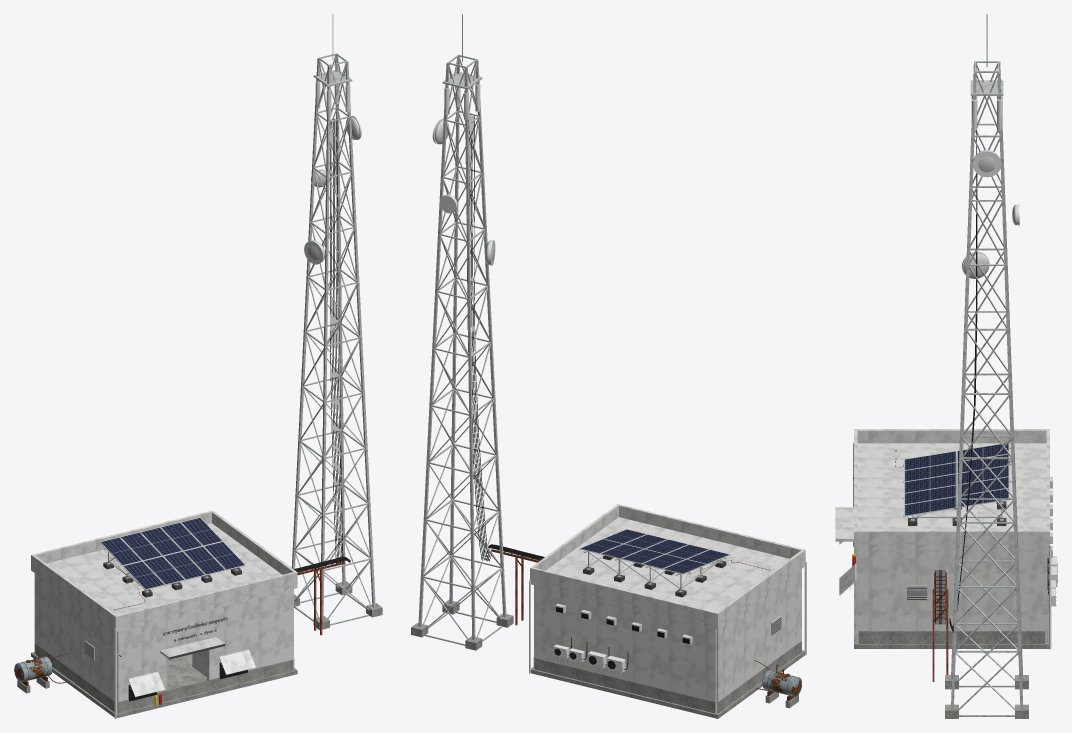
Rendered from SolarRooftop_G6_Site_Assembled.fbx.
3 views of the same model, side by side, from view 1: azimuth 30°, elevation 25°; view 2: azimuth 150°, elevation 25°; view 3: azimuth 270°, elevation 25° (orthographic). The views are drawn at different scales.
Parts seen in each view (by area): view 1: Roof_Slab, Side_Wall, Front_Wall_R, Parapet, Floor_Slab, Leg.001, Leg, Front_Wall_L, Dirt_Front, Leg.003, Leg.002, Parapet.001 (+17 smaller); view 2: Back_Wall, Roof_Slab, Side_Wall, Parapet.001, Parapet, Leg.003, Dirt_Back, Leg.002, Leg, Leg.001, Floor_Slab, Parapet.002 (+2 smaller); view 3: Side_Wall.001, Roof_Slab, Parapet.003, Parapet.002, Dirt_R, Leg.001, Leg.002, Floor_Slab, Leg.003, Leg, PV_R1_C5, Canopy (+15 smaller).
Boxes of the visible parts, x1,y1,x2,y2 form: Roof_Slab: [31, 523, 297, 631]; Side_Wall: [34, 573, 117, 712]; Front_Wall_R: [207, 589, 293, 680]; Parapet: [115, 572, 297, 627]; Floor_Slab: [31, 652, 297, 717]; Leg.001: [345, 61, 375, 607]; Leg: [321, 65, 330, 619]; Front_Wall_L: [117, 624, 149, 712]; Dirt_Front: [118, 659, 293, 713]; Leg.003: [291, 58, 320, 568]; Leg.002: [335, 54, 345, 585]; Parapet.001: [31, 510, 212, 565]; Back_Wall: [534, 585, 716, 712]; Roof_Slab: [530, 517, 805, 629]; Side_Wall: [716, 569, 801, 712]; Parapet.001: [530, 567, 719, 625]; Parapet: [617, 504, 805, 561]; Leg.003: [464, 67, 475, 639]; Dirt_Back: [534, 658, 715, 713]; Leg.002: [418, 62, 449, 626]; Leg: [475, 59, 506, 617]; Leg.001: [449, 56, 460, 604]; Floor_Slab: [531, 650, 805, 718]; Parapet.002: [715, 549, 805, 623]; Side_Wall.001: [858, 549, 1045, 630]; Roof_Slab: [854, 443, 1049, 549]; Parapet.003: [854, 530, 1049, 544]; Parapet.002: [854, 429, 1047, 443]; Dirt_R: [858, 631, 1045, 643]; Leg.001: [951, 71, 976, 707]; Leg.002: [997, 71, 1023, 707]; Floor_Slab: [854, 549, 1048, 648]; Leg.003: [997, 61, 1023, 678]; Leg: [951, 61, 976, 678]; PV_R1_C5: [904, 496, 956, 516]; Canopy: [835, 507, 853, 541].
Size of the model in its own units: 20.11 by 32.53 by 9.54.
69 materials, 43 textured.
